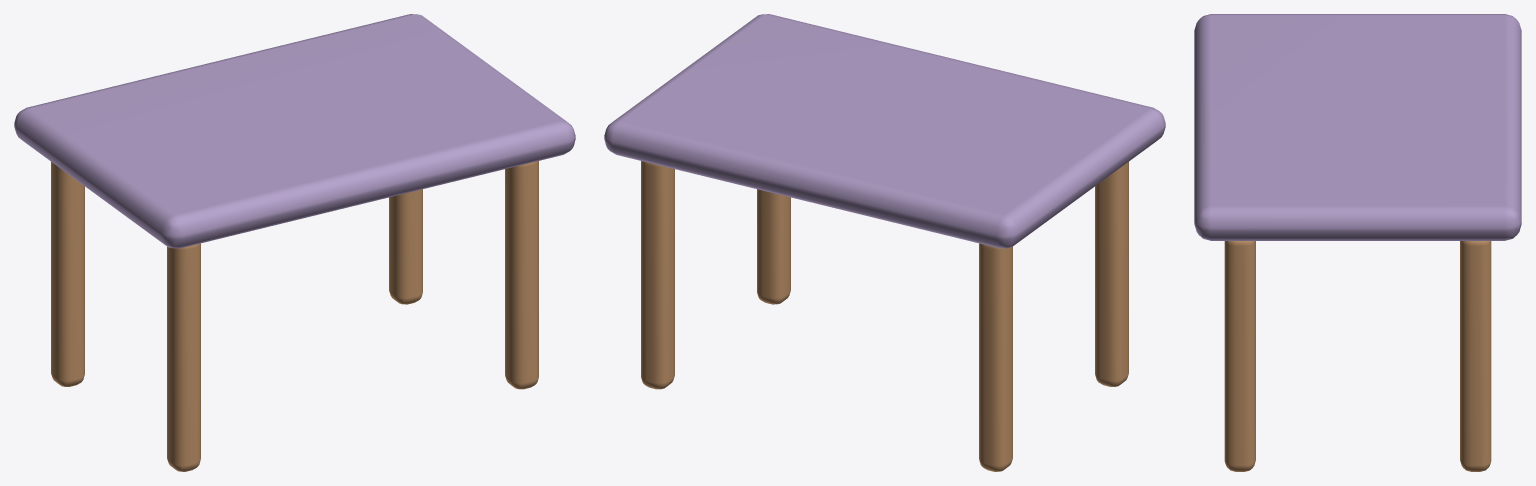
File: tablePurple.glb
The picture shows the model from 3 angles, left to right: view 1: azimuth 30°, elevation 25°; view 2: azimuth 150°, elevation 25°; view 3: azimuth 270°, elevation 25°; orthographic projection.
Parts seen in each view (by area): view 1: Rounded tabletop, Leg, Leg.002, Leg.001, Leg.003; view 2: Rounded tabletop, Leg.001, Leg.003, Leg, Leg.002; view 3: Rounded tabletop, Leg.002, Leg.003.
Part boxes in pixels (bbox=[...]): Rounded tabletop: bbox=[14, 14, 575, 248]; Leg: bbox=[167, 243, 200, 471]; Leg.002: bbox=[505, 161, 538, 389]; Leg.001: bbox=[51, 162, 84, 386]; Leg.003: bbox=[389, 189, 422, 304]; Rounded tabletop: bbox=[604, 14, 1165, 248]; Leg.001: bbox=[979, 243, 1012, 471]; Leg.003: bbox=[641, 161, 674, 389]; Leg: bbox=[1095, 162, 1128, 386]; Leg.002: bbox=[757, 189, 790, 304]; Rounded tabletop: bbox=[1194, 14, 1521, 240]; Leg.002: bbox=[1224, 241, 1255, 471]; Leg.003: bbox=[1460, 241, 1491, 471].
Size of the model in its own units: 1.7 by 1.06 by 1.15.
